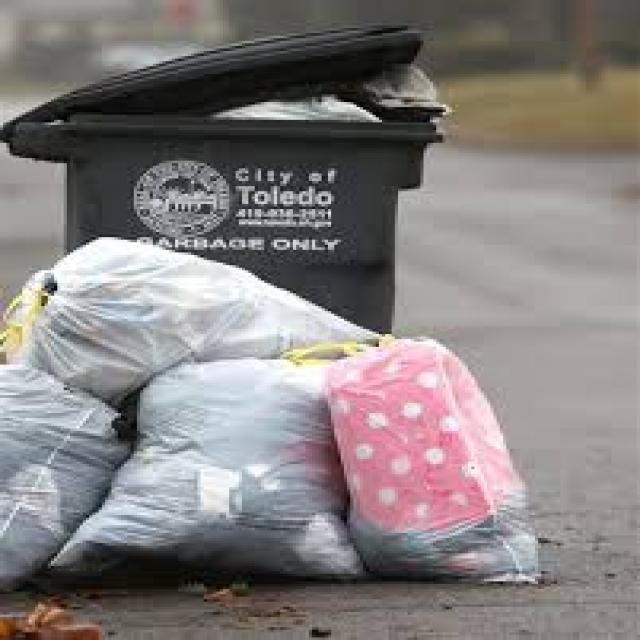garbage: (0, 237, 535, 589)
